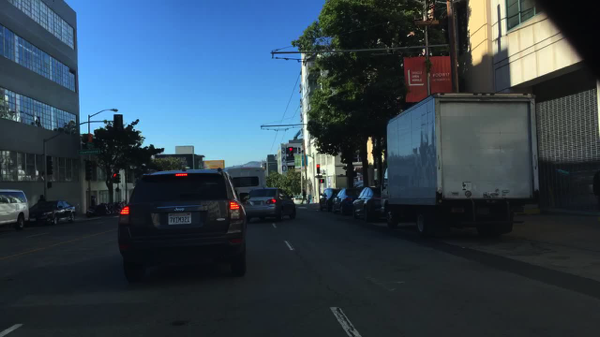car: (116, 167, 249, 284), (242, 188, 297, 222), (348, 184, 386, 222), (0, 188, 30, 231), (224, 164, 265, 192), (29, 202, 77, 225), (330, 185, 360, 215), (316, 187, 338, 211), (238, 189, 249, 202), (293, 195, 306, 204)
motor: (85, 203, 112, 216), (99, 203, 118, 213), (110, 201, 125, 212)
person: (301, 188, 310, 205), (37, 192, 47, 201)
traffic light: (45, 154, 55, 175), (114, 113, 124, 133), (287, 146, 293, 159), (116, 170, 121, 182), (316, 163, 321, 173), (47, 181, 53, 189), (112, 171, 116, 182), (319, 179, 325, 184)
traffic sign: (79, 149, 100, 155), (313, 174, 323, 178)
truck: (377, 91, 540, 238)
